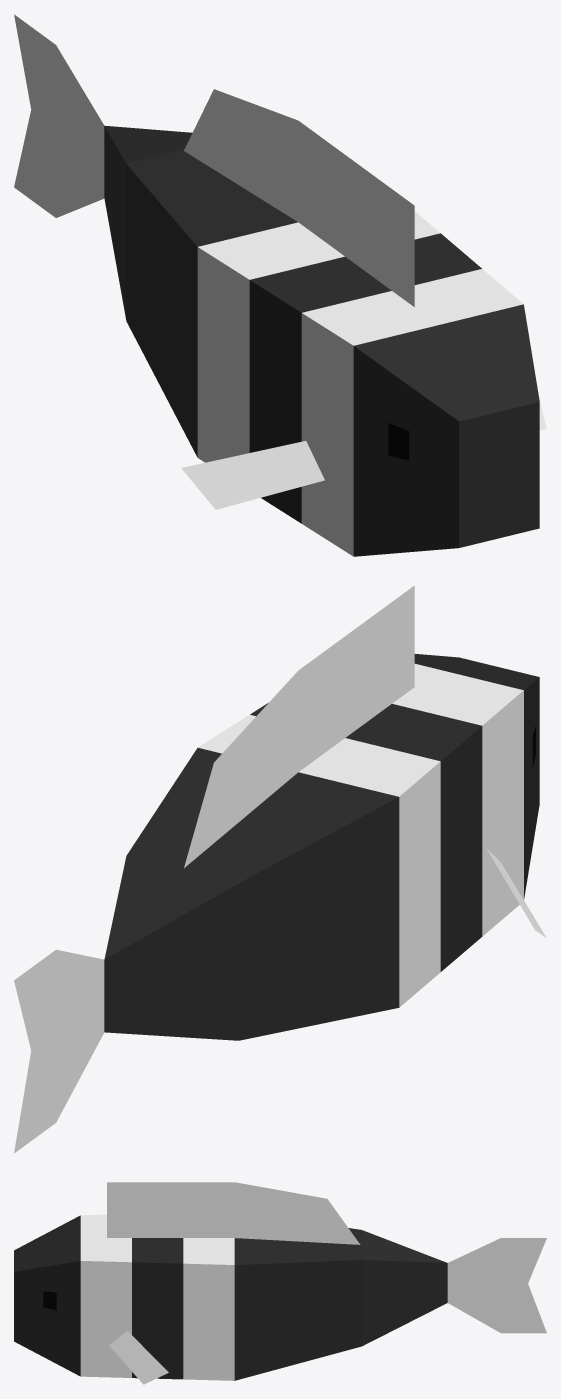
File: 22fish.fbx
3 renders of one model, top to bottom at view 1: azimuth 30°, elevation 25°; view 2: azimuth 150°, elevation 25°; view 3: azimuth 270°, elevation 25°, orthographic. The views are drawn at different scales.
Visible parts, largest first — view 1: Tropical Fish 22; view 2: Tropical Fish 22; view 3: Tropical Fish 22.
Part boxes in pixels (bbox=[...]): Tropical Fish 22: bbox=[14, 14, 546, 556]; Tropical Fish 22: bbox=[14, 585, 546, 1153]; Tropical Fish 22: bbox=[14, 1182, 546, 1384].
Size of the model in its own units: 118 by 99.62 by 280.
